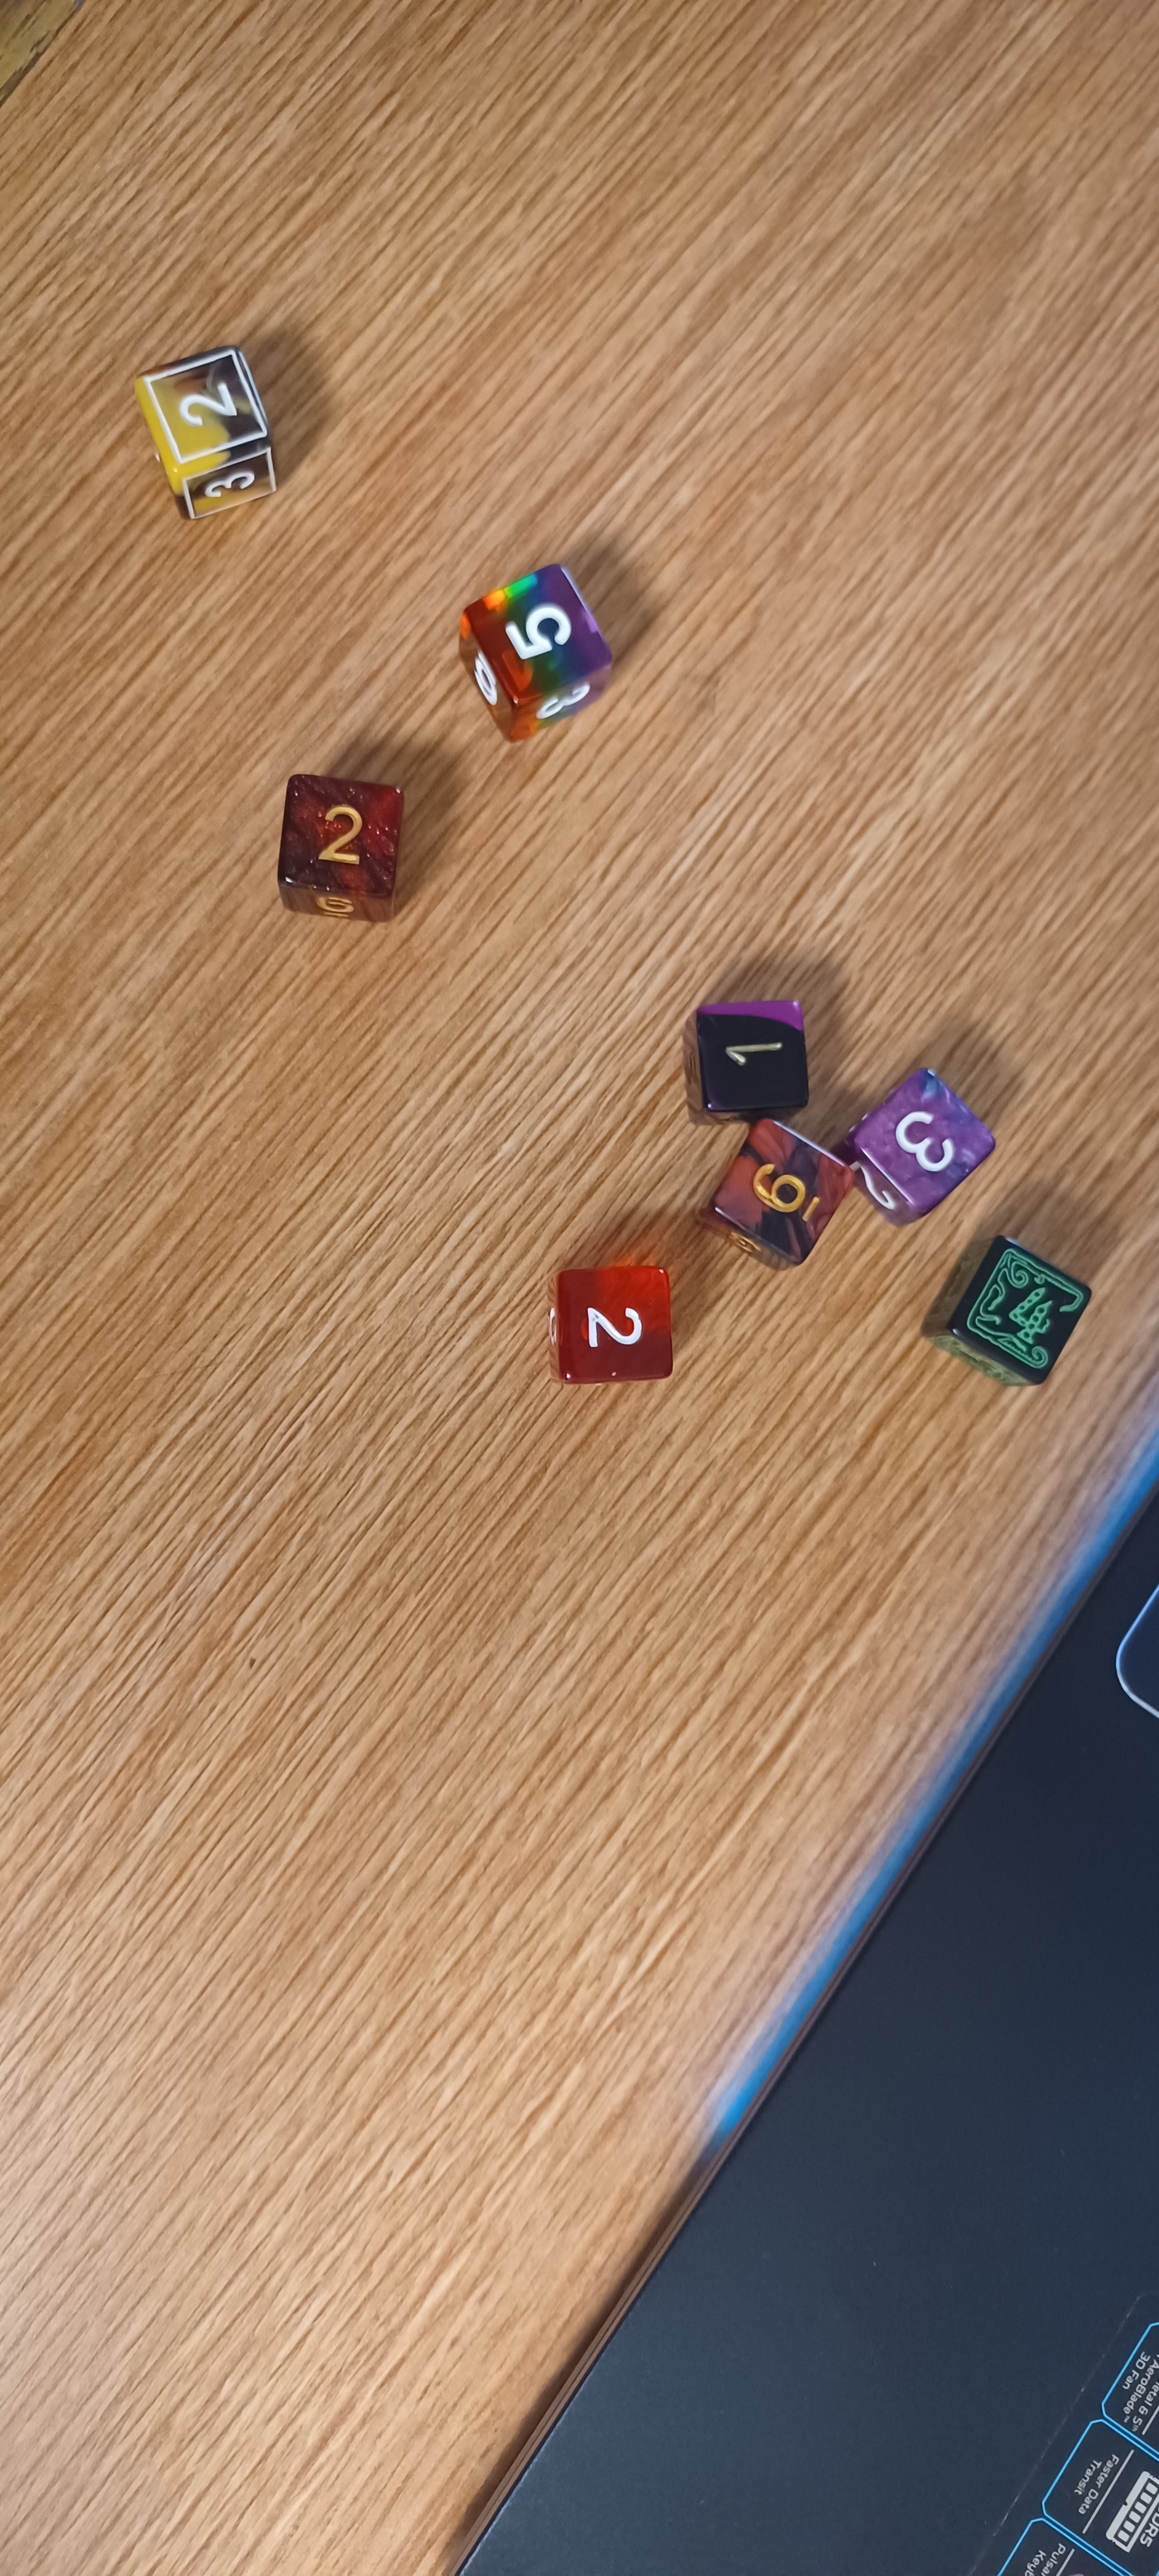five: (422, 537, 645, 752)
four: (919, 1232, 1121, 1410)
one: (658, 977, 839, 1127)
six: (693, 1109, 877, 1288)
three: (839, 1046, 1028, 1237)
two: (87, 322, 332, 531), (245, 748, 463, 968), (506, 1237, 706, 1416)
